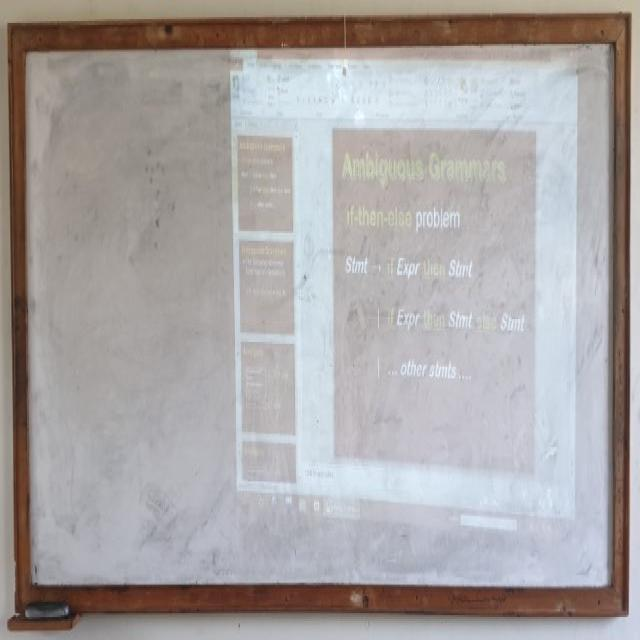Slide: (227, 36, 576, 542)
White-board: (14, 29, 622, 600)
